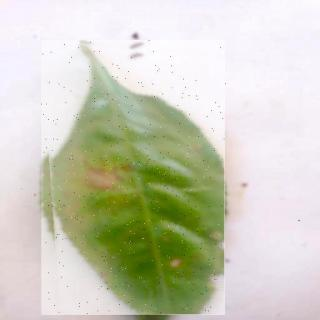Brown Blight: (43, 41, 227, 317)
